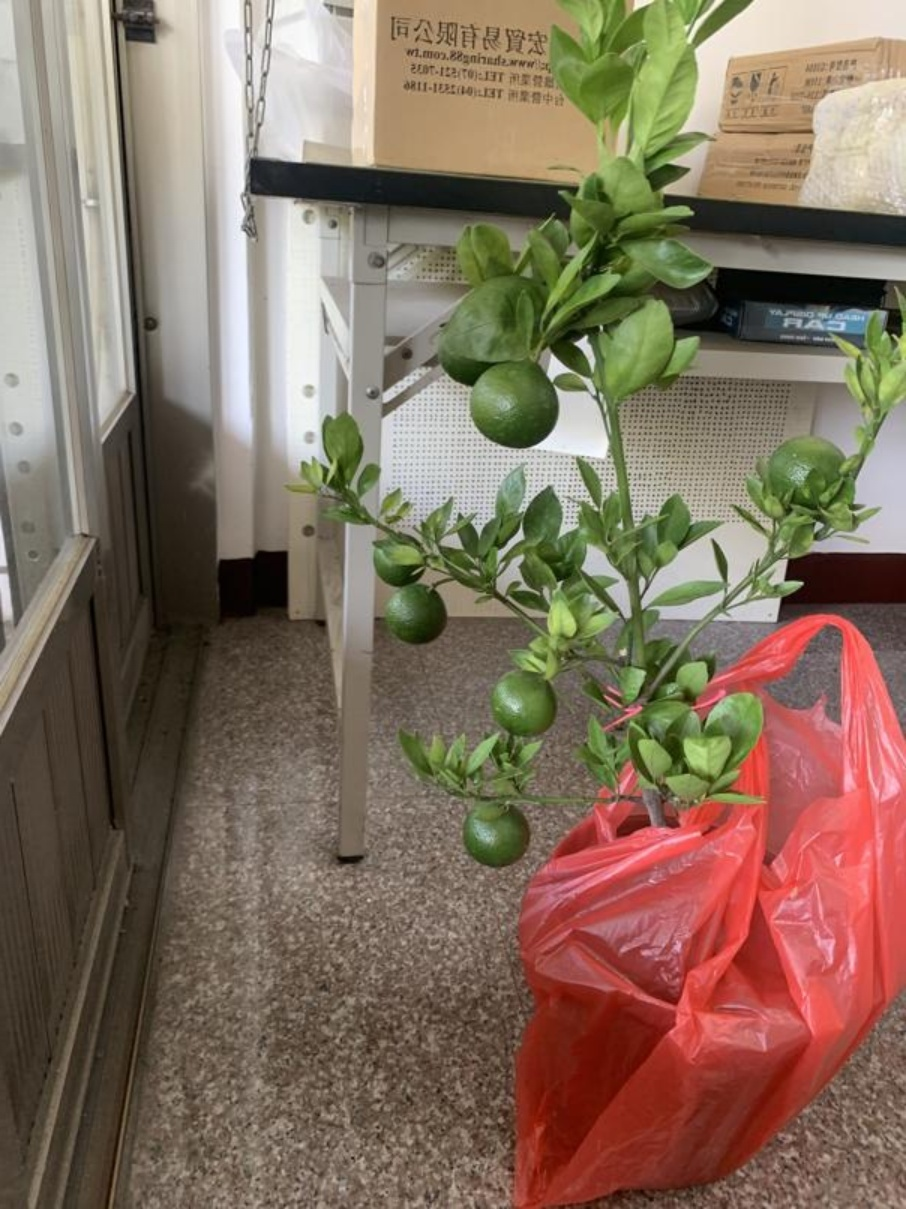Tangerine: (473, 356, 559, 451), (771, 428, 848, 514), (460, 797, 533, 869), (495, 667, 561, 737), (387, 577, 451, 647)
